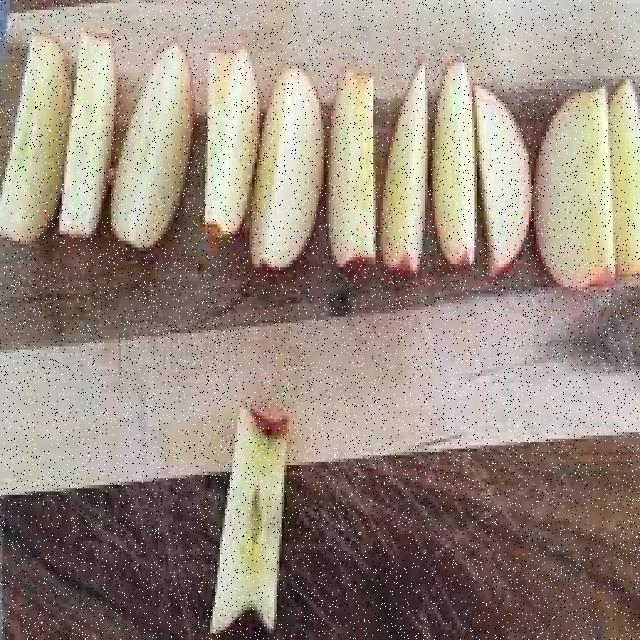Apple: (210, 402, 288, 640), (534, 90, 620, 302), (114, 31, 190, 249), (257, 62, 325, 274), (198, 40, 262, 242), (4, 32, 63, 242), (63, 22, 114, 250), (384, 42, 432, 275), (330, 61, 380, 279), (475, 83, 530, 279), (433, 62, 478, 274), (610, 75, 640, 282)
